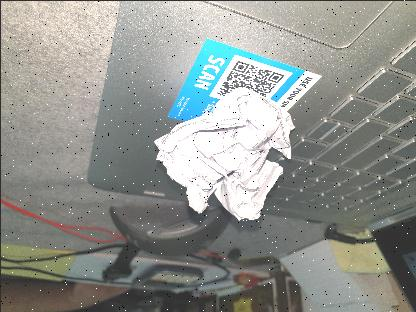Others: (143, 84, 299, 224)
